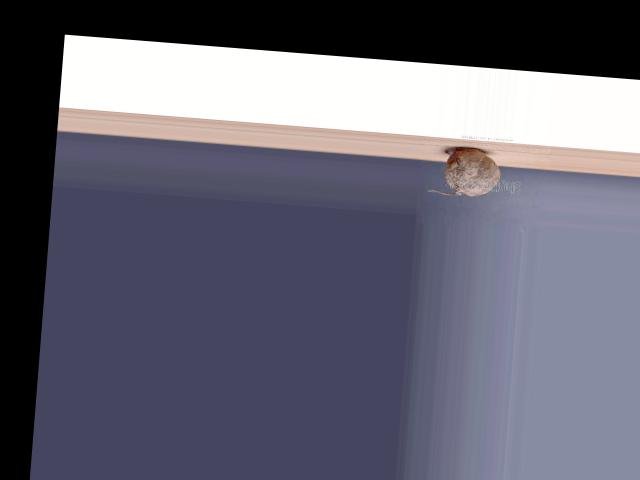beet: (425, 145, 501, 198)
